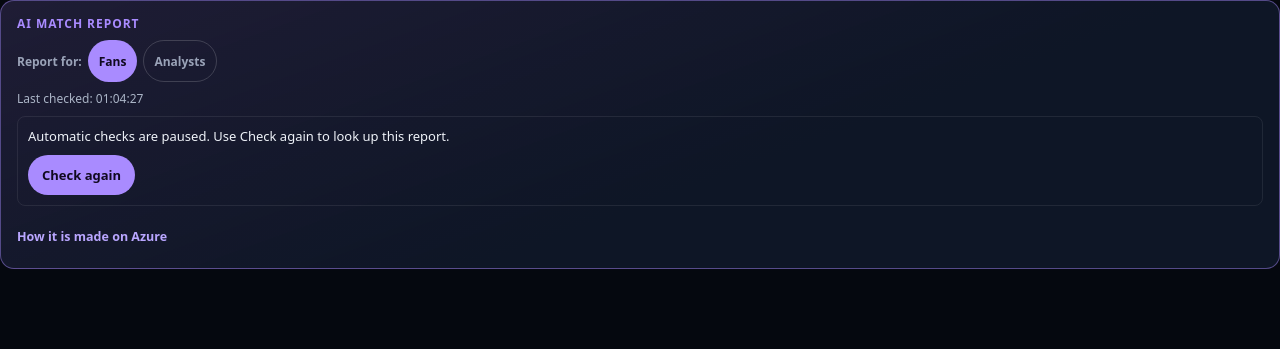
Test case: stops an exhausted report lookup visibly and checks the existing request again without another POST
Expected: the text "Automatic checks are paused" is shown, 28,127 -> 450,145
Expected: the text "Last checked: 01:04:27" is shown, 17,90 -> 143,107
Click the button "Check again".
click(82, 174)  # box 28,154 -> 135,194
Wait 6000 ms
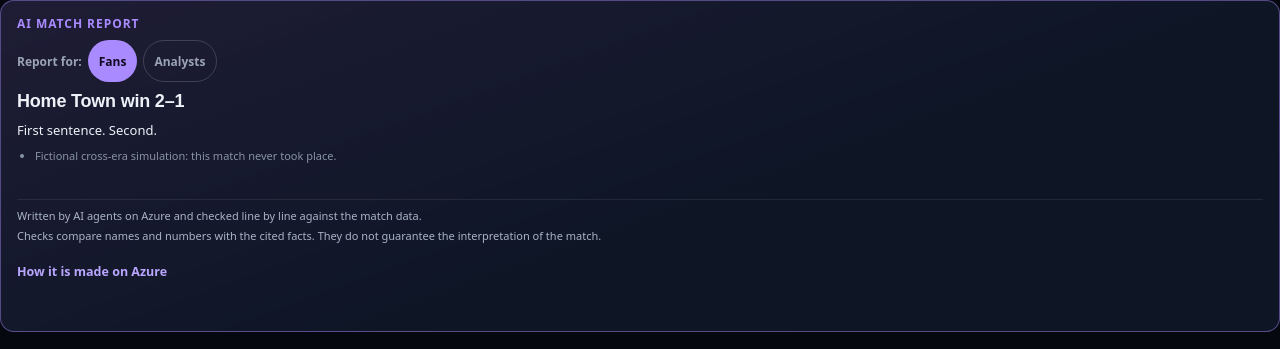
Now the text "Automatic checks are paused" is gone
Now the heading "Home Town win 2–1" is shown, box 17,91 -> 184,111
